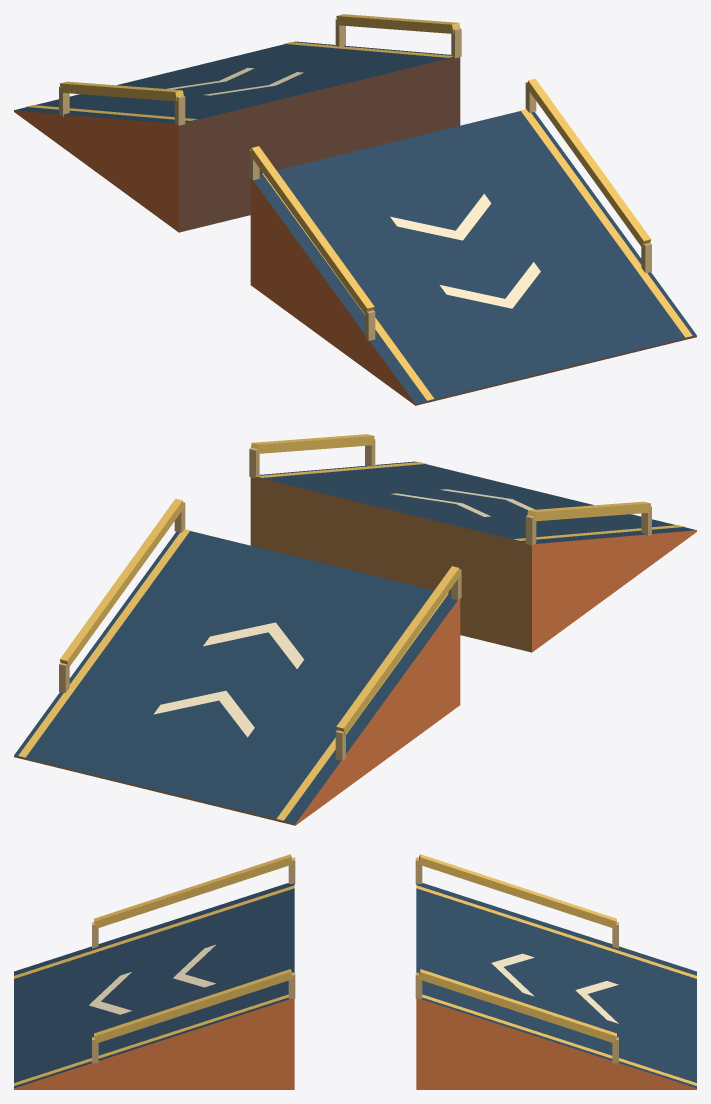
File: jump-bridge.glb
3 renders of one model, top to bottom at view 1: azimuth 30°, elevation 25°; view 2: azimuth 150°, elevation 25°; view 3: azimuth 270°, elevation 25°, orthographic. The views are drawn at different scales.
Parts seen in each view (by area): view 1: jump-bridge; view 2: jump-bridge; view 3: jump-bridge.
Boxes of the visible parts, x1,y1,x2,y2 form: jump-bridge: (14,14,696,405); jump-bridge: (14,434,696,825); jump-bridge: (14,854,696,1089).
Bounding box in the file's own units: 3.43 × 1.61 × 8.4.
1 material, 1 textured.
